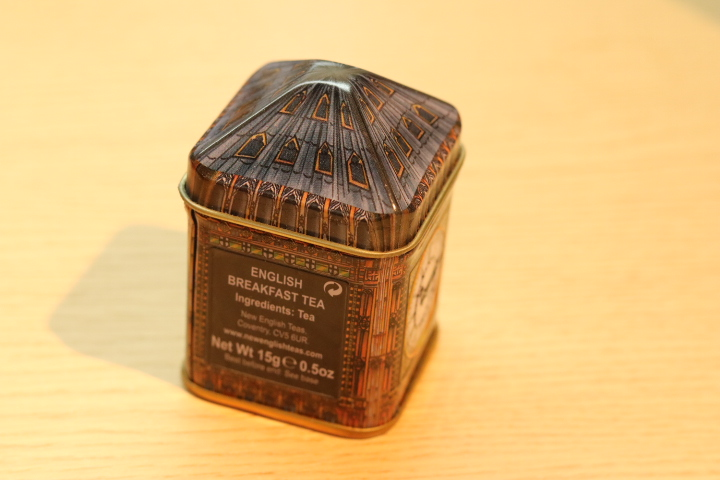Big Ben: (166, 50, 481, 442)
